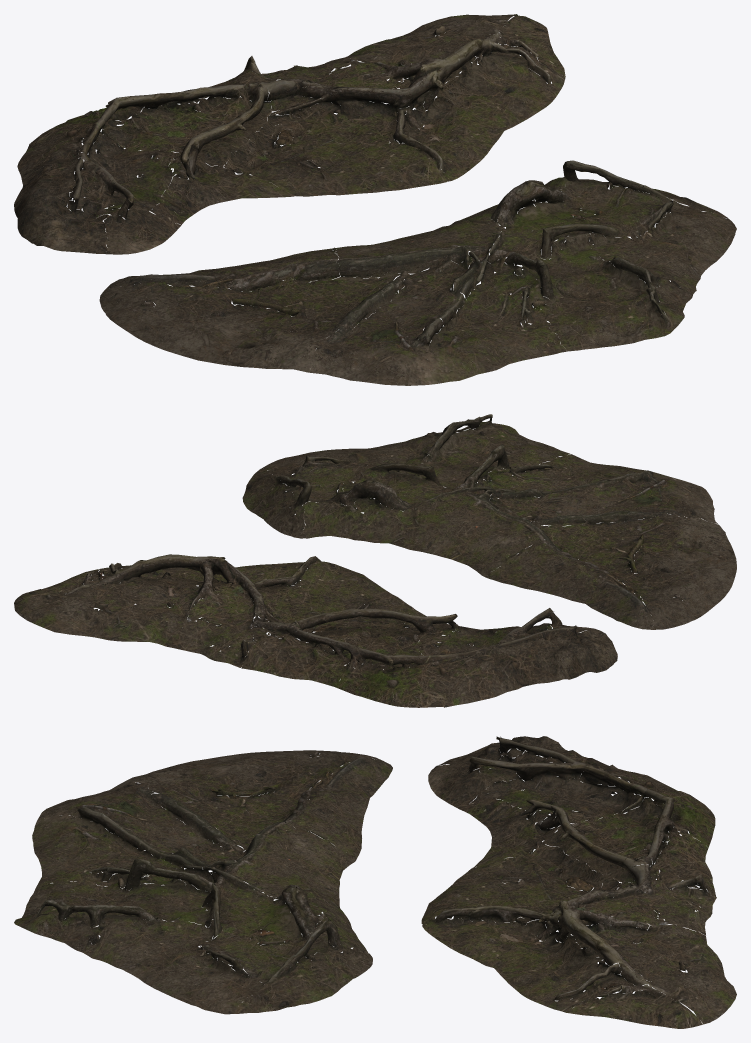
The model's file is pine_roots.glb.
The picture shows the model from 3 angles, top to bottom: view 1: azimuth 30°, elevation 25°; view 2: azimuth 150°, elevation 25°; view 3: azimuth 270°, elevation 25°; orthographic projection. The views are drawn at different scales.
Parts seen in each view (by area): view 1: pine_roots_b, pine_roots_a; view 2: pine_roots_b, pine_roots_a; view 3: pine_roots_b, pine_roots_a.
Boxes of the visible parts, box(x1,y1,x2,y2) form: pine_roots_b: box(99, 160, 736, 385); pine_roots_a: box(14, 14, 565, 254); pine_roots_b: box(242, 414, 736, 629); pine_roots_a: box(14, 554, 617, 707); pine_roots_b: box(14, 750, 392, 1014); pine_roots_a: box(421, 736, 736, 1028).
Size of the model in its own units: 1.77 by 0.1542 by 1.89.
2 materials, 2 textured.
